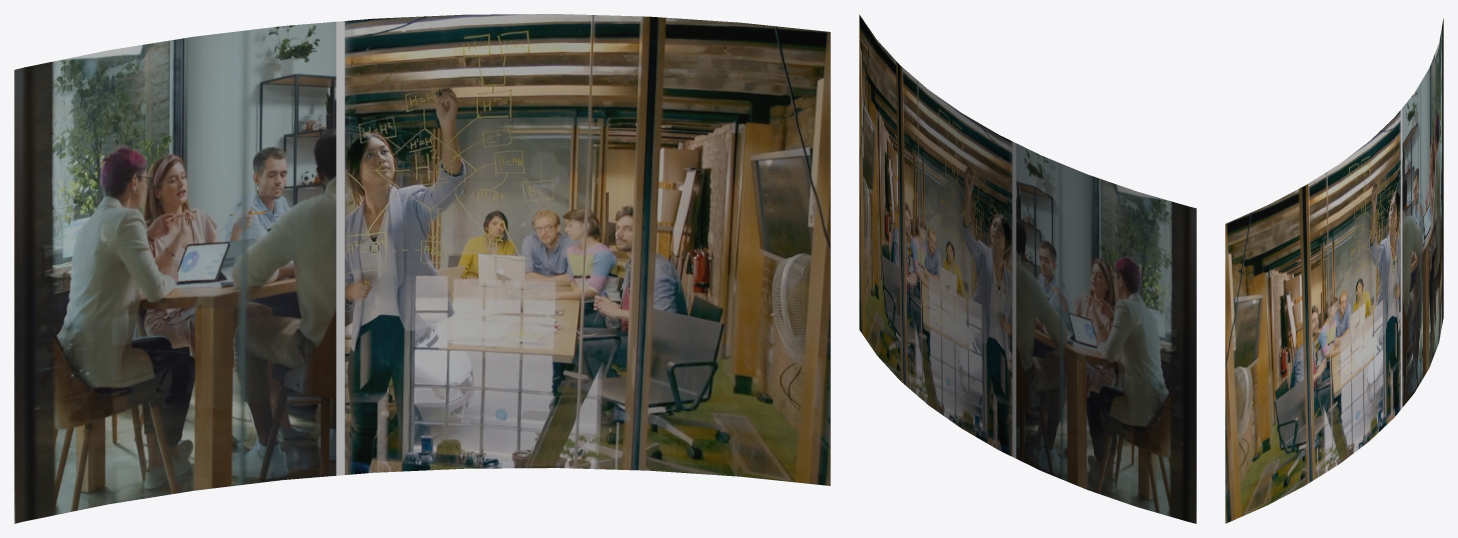
The model's file is TZ_Curved_screens_06.glb.
The picture shows the model from 3 angles, left to right: view 1: azimuth 30°, elevation 25°; view 2: azimuth 150°, elevation 25°; view 3: azimuth 270°, elevation 25°; orthographic projection. The views are drawn at different scales.
Visible parts, largest first — view 1: TZ_Curved_screens_06; view 2: TZ_Curved_screens_06; view 3: TZ_Curved_screens_06.
Part boxes in pixels (bbox=[...]): TZ_Curved_screens_06: bbox=[14, 14, 830, 523]; TZ_Curved_screens_06: bbox=[859, 14, 1196, 523]; TZ_Curved_screens_06: bbox=[1225, 18, 1443, 523].
Bounding box in the file's own units: 3.18 × 2.12 × 1.4.
Materials: 1 (1 with a texture image).
